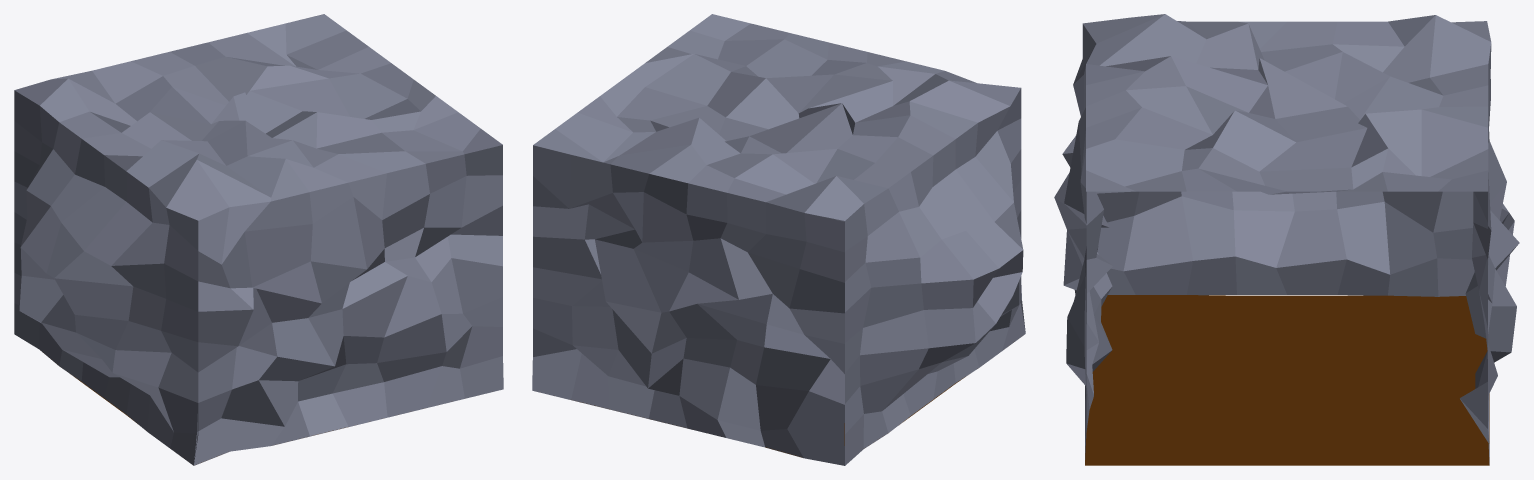
Rendered from Cave_Dead_End.fbx.
3 views of the same model, side by side, from view 1: azimuth 30°, elevation 25°; view 2: azimuth 150°, elevation 25°; view 3: azimuth 270°, elevation 25° (orthographic). The views are drawn at different scales.
Parts seen in each view (by area): view 1: Plane.001, Plane, Plane.004; view 2: Plane.003, Plane, Plane.004; view 3: Plane, Plane.002, Plane.004, Plane.001, Plane.003.
Boxes of the visible parts, x1,y1,x2,y2 form: Plane.001: (194, 145, 503, 465); Plane: (14, 14, 502, 220); Plane.004: (14, 90, 198, 465); Plane.003: (532, 145, 844, 465); Plane: (533, 14, 1020, 220); Plane.004: (845, 88, 1025, 465); Plane: (1082, 14, 1491, 194); Plane.002: (1085, 295, 1489, 465); Plane.004: (1082, 24, 1474, 296); Plane.001: (1054, 24, 1112, 459); Plane.003: (1460, 44, 1519, 464).
Size of the model in its own units: 1960 by 1331 by 1852.
